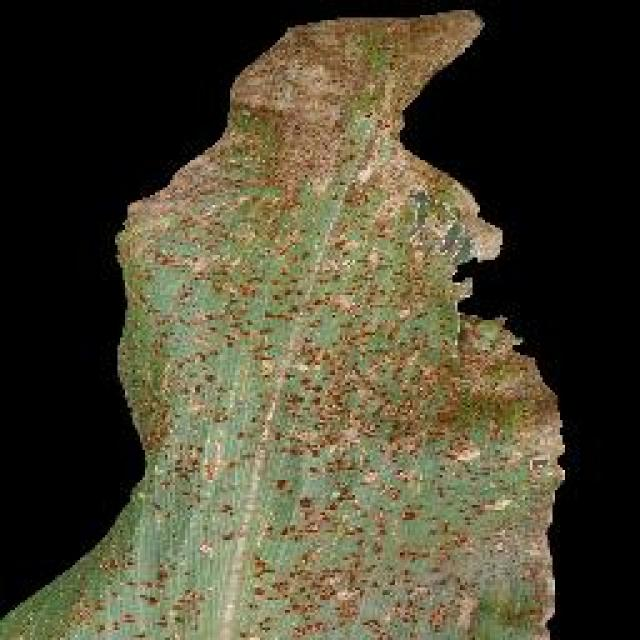Corn Common Rust: (143, 0, 486, 518)
